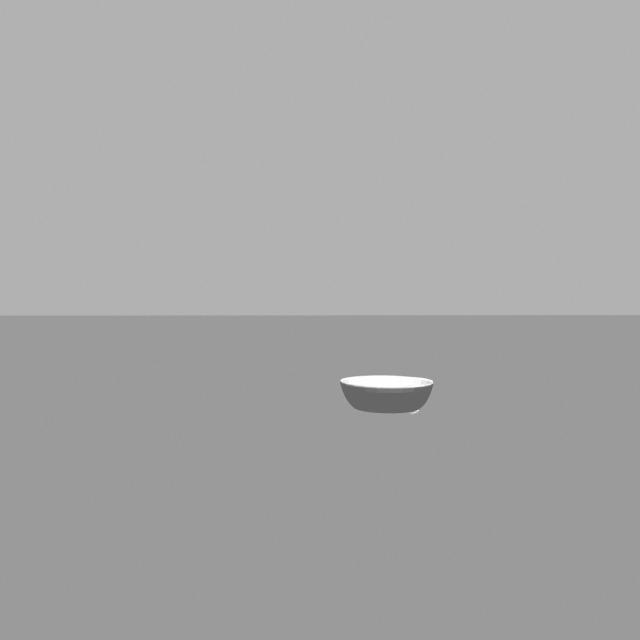bowl: (333, 356, 438, 431)
